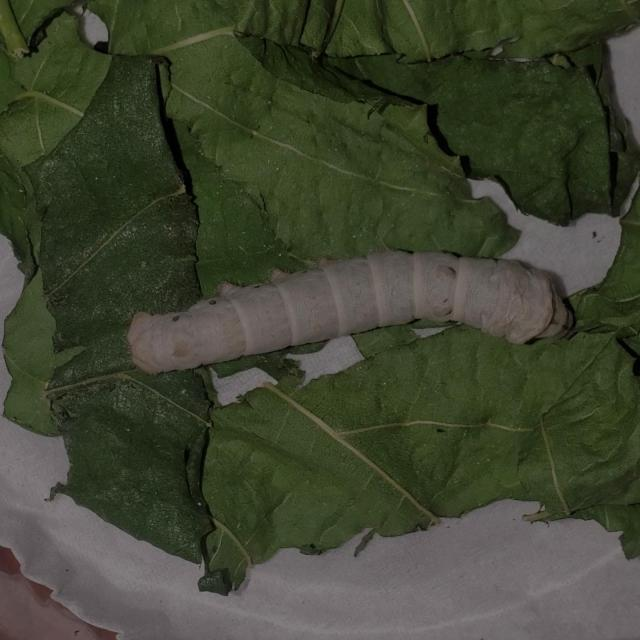Healthy: (120, 230, 577, 381)
